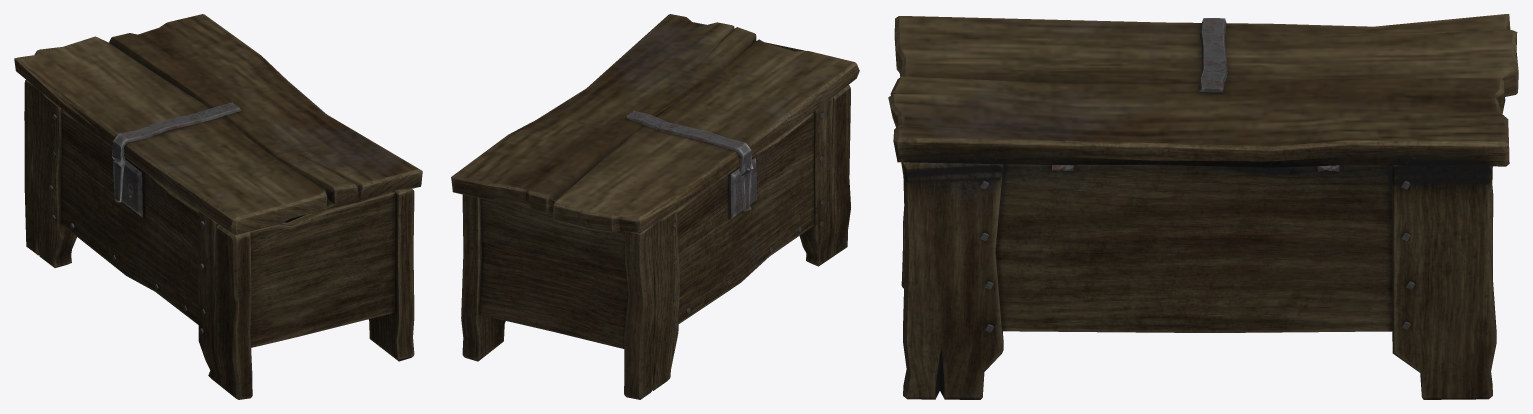
Rendered from SM_Wooden_Box.fbx.
3 renders of one model, left to right at view 1: azimuth 30°, elevation 25°; view 2: azimuth 150°, elevation 25°; view 3: azimuth 270°, elevation 25°, orthographic. The views are drawn at different scales.
Visible parts, largest first — view 1: SM_Wooden_Box_LOD0; view 2: SM_Wooden_Box_LOD0; view 3: SM_Wooden_Box_LOD0.
Part boxes in pixels (x1,y1,x2,y2): SM_Wooden_Box_LOD0: (14,14,422,399); SM_Wooden_Box_LOD0: (451,14,859,399); SM_Wooden_Box_LOD0: (888,14,1518,399).
Size of the model in its own units: 69.93 by 139 by 65.18.
Materials: 1 (1 with a texture image).
